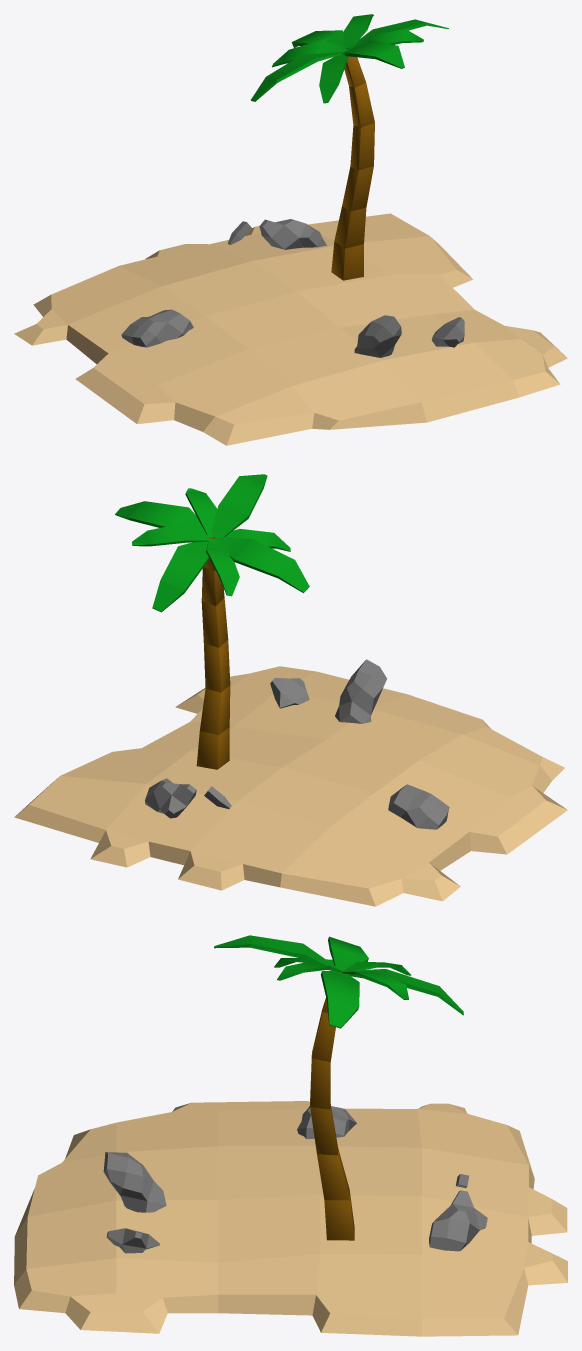
The model's file is island(LOD_2).fbx.
The picture shows the model from 3 angles, top to bottom: view 1: azimuth 30°, elevation 25°; view 2: azimuth 150°, elevation 25°; view 3: azimuth 270°, elevation 25°; orthographic projection. The views are drawn at different scales.
Visible parts, largest first — view 1: Остров.002, Куб.010, palm_log.002, palm_leaf.002, palm_leaf_3.002, palm_leaf_4.002, palm_leaf_6.002, palm_leaf_7.002, palm_leaf_5.002, palm_leaf_2.002, palm_leaf_1.002; view 2: Остров.002, Куб.010, palm_log.002, palm_leaf.002, palm_leaf_2.002, palm_leaf_3.002, palm_leaf_1.002, palm_leaf_5.002, palm_leaf_6.002, palm_leaf_7.002, palm_leaf_4.002; view 3: Остров.002, Куб.010, palm_log.002, palm_leaf_1.002, palm_leaf_3.002, palm_leaf_2.002, palm_leaf.002, palm_leaf_5.002, palm_leaf_7.002.
Boxes of the visible parts, bbox=[...] form: Остров.002: bbox=[14, 213, 567, 445]; Куб.010: bbox=[121, 219, 464, 357]; palm_log.002: bbox=[331, 51, 374, 280]; palm_leaf.002: bbox=[251, 52, 343, 101]; palm_leaf_3.002: bbox=[342, 40, 404, 68]; palm_leaf_4.002: bbox=[319, 54, 348, 103]; palm_leaf_6.002: bbox=[272, 39, 346, 67]; palm_leaf_7.002: bbox=[348, 29, 423, 50]; palm_leaf_5.002: bbox=[343, 14, 373, 48]; palm_leaf_2.002: bbox=[291, 30, 347, 50]; palm_leaf_1.002: bbox=[356, 19, 448, 43]; Остров.002: bbox=[14, 666, 567, 906]; Куб.010: bbox=[145, 659, 449, 829]; palm_log.002: bbox=[196, 538, 230, 769]; palm_leaf.002: bbox=[216, 537, 309, 593]; palm_leaf_2.002: bbox=[152, 541, 209, 612]; palm_leaf_3.002: bbox=[211, 474, 267, 538]; palm_leaf_1.002: bbox=[115, 501, 206, 534]; palm_leaf_5.002: bbox=[132, 523, 209, 546]; palm_leaf_6.002: bbox=[206, 539, 239, 596]; palm_leaf_7.002: bbox=[185, 488, 217, 538]; palm_leaf_4.002: bbox=[215, 529, 290, 551]; Остров.002: bbox=[14, 1101, 567, 1336]; Куб.010: bbox=[103, 1106, 487, 1253]; palm_log.002: bbox=[310, 998, 354, 1240]; palm_leaf_1.002: bbox=[321, 971, 359, 1028]; palm_leaf_3.002: bbox=[214, 935, 339, 970]; palm_leaf_2.002: bbox=[346, 969, 463, 1015]; palm_leaf.002: bbox=[328, 936, 368, 971]; palm_leaf_5.002: bbox=[342, 971, 408, 999]; palm_leaf_7.002: bbox=[277, 961, 342, 980].
Size of the model in its own units: 1480 by 987 by 1486.
